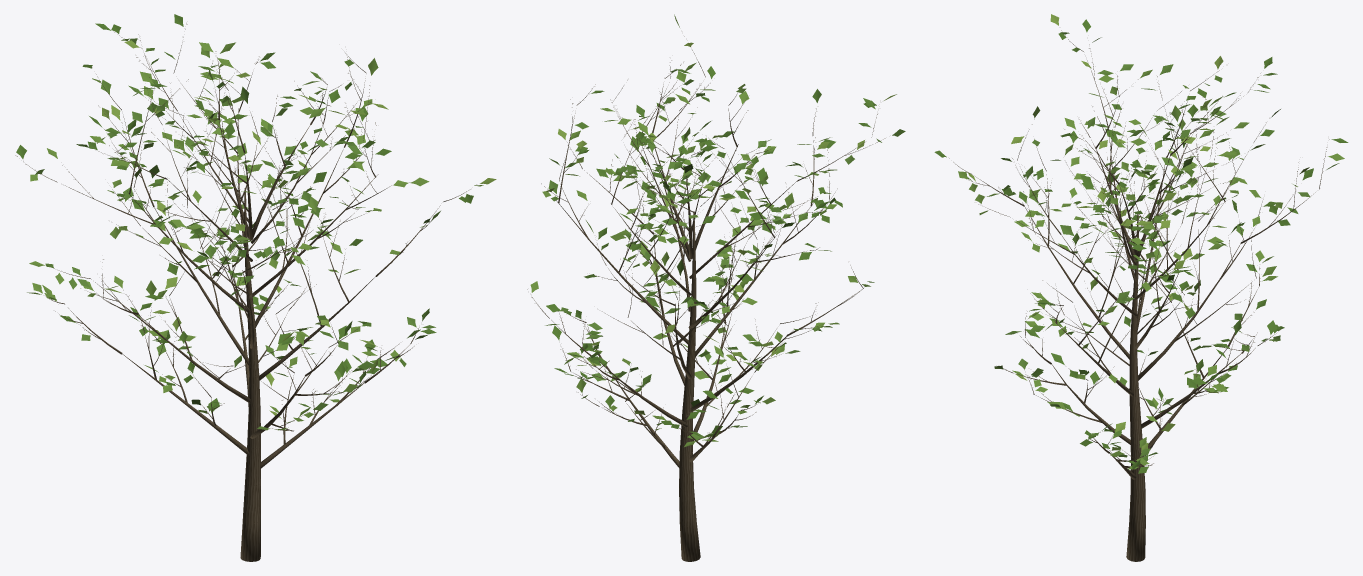
Rendered from Sessile_Oak_Young_01_LOD2.fbx.
The picture shows the model from 3 angles, left to right: view 1: azimuth 30°, elevation 25°; view 2: azimuth 150°, elevation 25°; view 3: azimuth 270°, elevation 25°; orthographic projection. The views are drawn at different scales.
Parts seen in each view (by area): view 1: Sessile_Oak_Young_01_Foliage_LOD2, Sessile_Oak_Young_01_Bark_LOD2; view 2: Sessile_Oak_Young_01_Foliage_LOD2, Sessile_Oak_Young_01_Bark_LOD2; view 3: Sessile_Oak_Young_01_Foliage_LOD2, Sessile_Oak_Young_01_Bark_LOD2.
Boxes of the visible parts, x1=… form: Sessile_Oak_Young_01_Foliage_LOD2: x1=16, y1=14, x2=496, y2=430; Sessile_Oak_Young_01_Bark_LOD2: x1=15, y1=23, x2=476, y2=561; Sessile_Oak_Young_01_Foliage_LOD2: x1=530, y1=14, x2=905, y2=446; Sessile_Oak_Young_01_Bark_LOD2: x1=527, y1=36, x2=885, y2=561; Sessile_Oak_Young_01_Foliage_LOD2: x1=934, y1=14, x2=1348, y2=473; Sessile_Oak_Young_01_Bark_LOD2: x1=949, y1=30, x2=1329, y2=561.
Bounding box in the file's own units: 633 × 800 × 621.
Materials: 5 (1 with a texture image).
